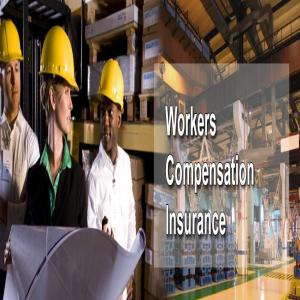yellow: (40, 28, 77, 142), (99, 59, 125, 153), (2, 19, 23, 118)
